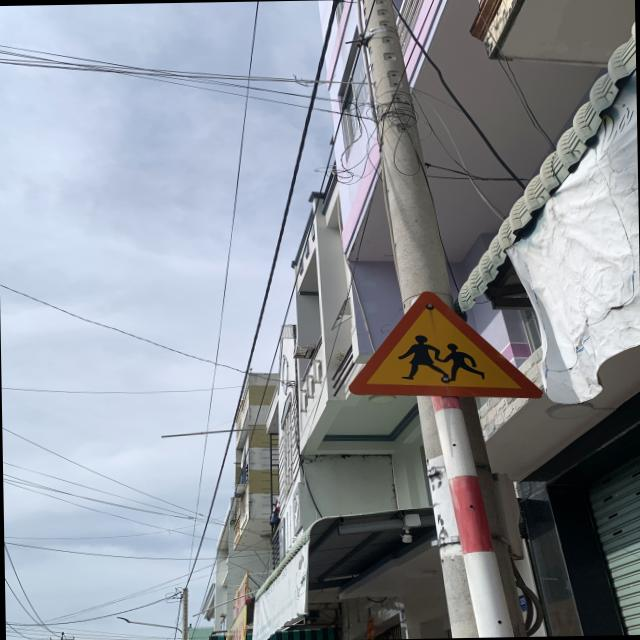Vong_Xuyen: (344, 289, 542, 401)
